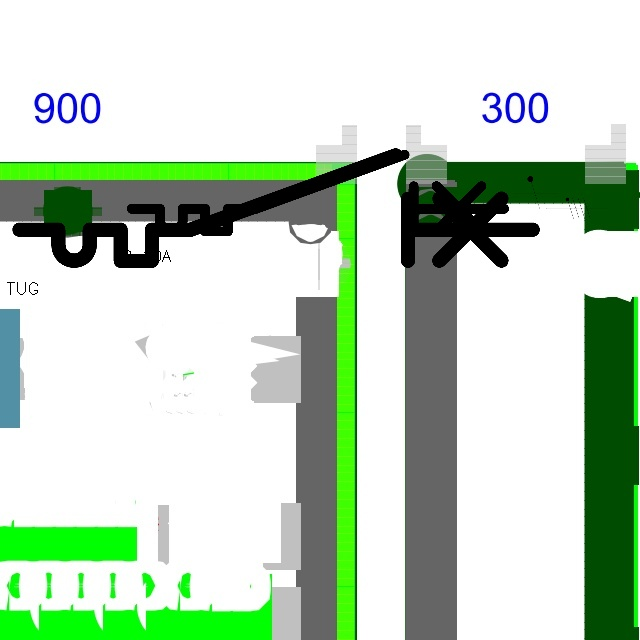interruptor_termomagnetico: (6, 142, 546, 274), (122, 145, 513, 241)
